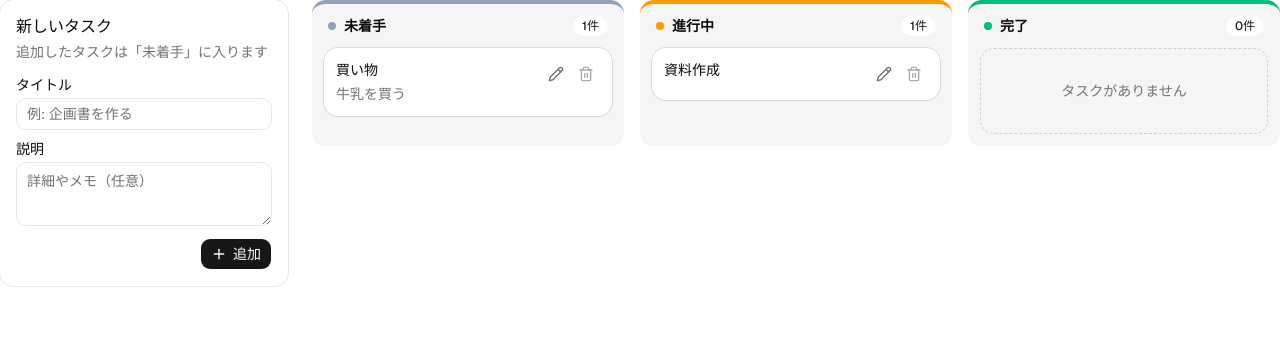
Test: 編集 › 完了にしたタスクを未着手に戻すと、元の列に表示される
The image size is (1280, 349).
Check: the heading "買い物" is shown, box x1=336 y1=61 x2=378 y2=79
Click the button named "「資料作成」を編集" at (884, 74), box x1=870 y1=60 x2=898 y2=88
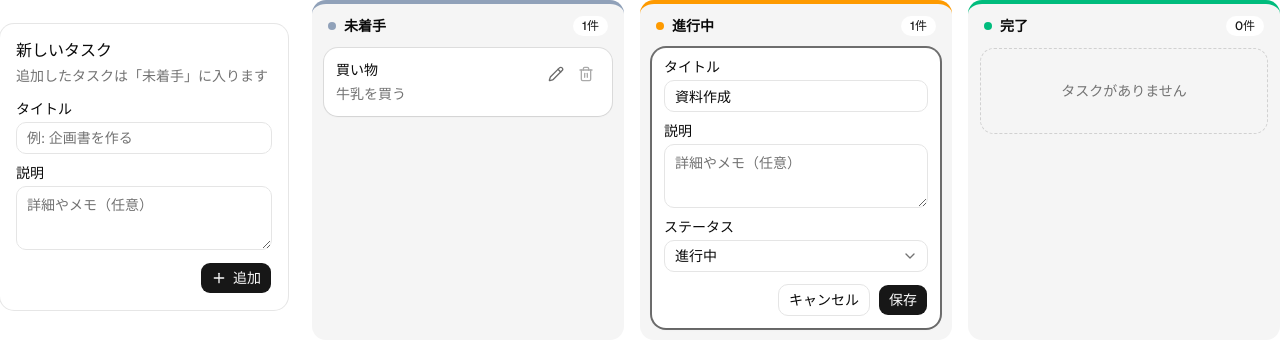
Select "完了" in the dropdown labelled "ステータス" at (796, 256), box x1=664 y1=240 x2=928 y2=272
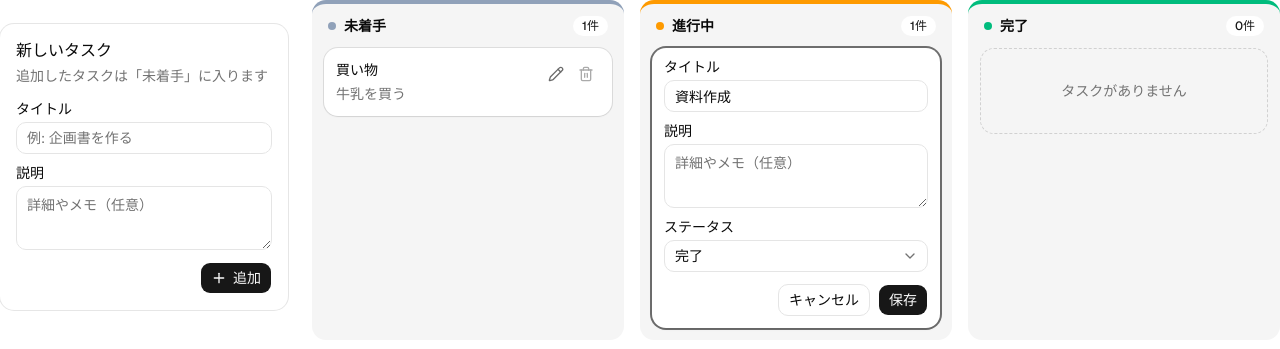
Click the button "保存" at (903, 300), box x1=878 y1=284 x2=928 y2=316
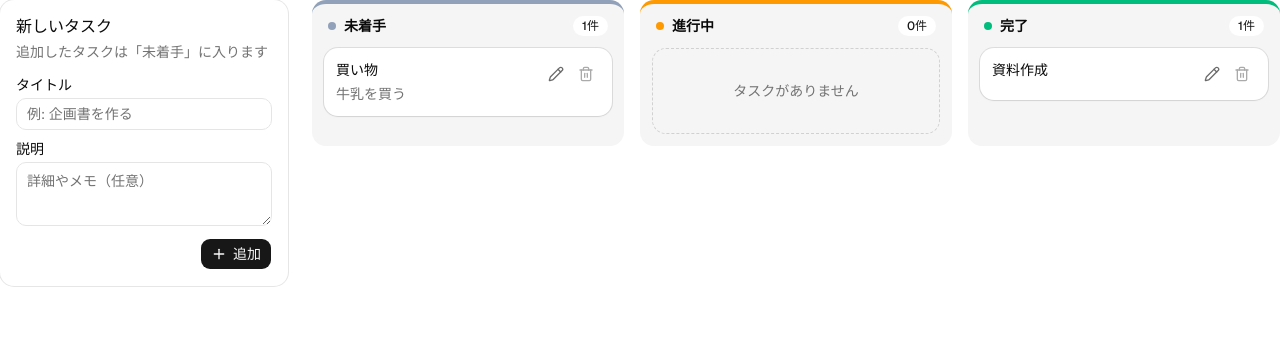
Check: the heading "資料作成" is shown, box x1=992 y1=61 x2=1048 y2=79
Click the button named "「資料作成」を編集" at (1212, 74), box x1=1198 y1=60 x2=1226 y2=88
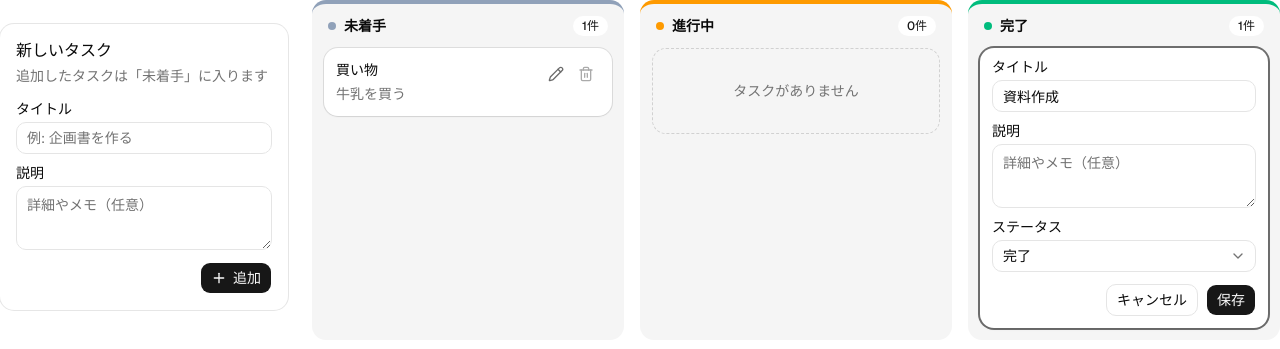
Select "未着手" in the dropdown labelled "ステータス" at (1124, 256), box x1=992 y1=240 x2=1256 y2=272
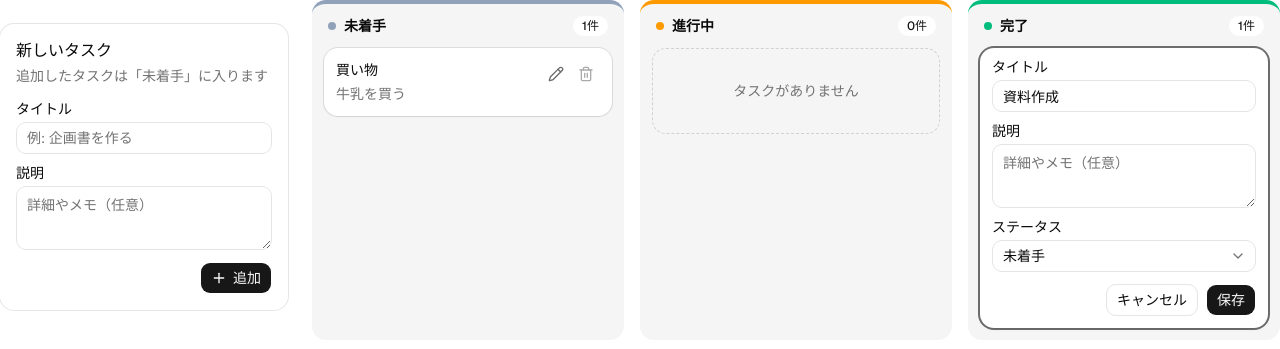
Click the button "保存" at (1231, 300), box x1=1206 y1=284 x2=1256 y2=316
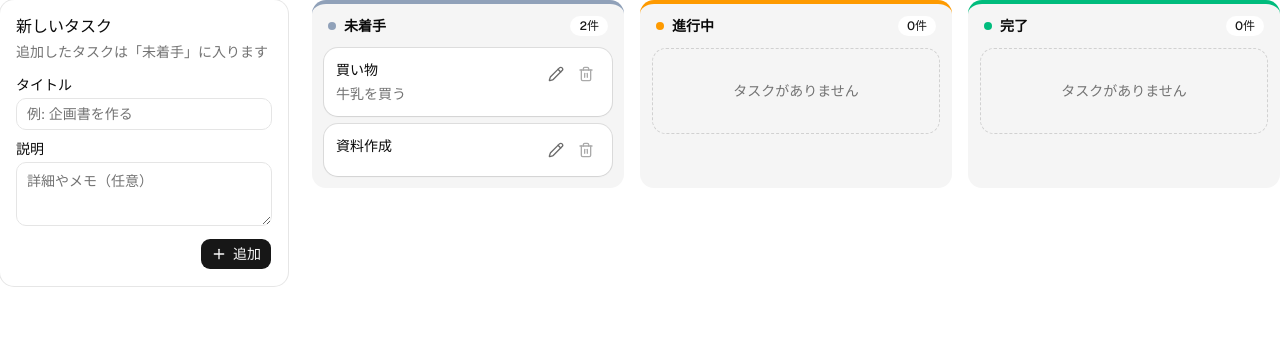
Check: the heading "資料作成" is shown, box x1=336 y1=137 x2=392 y2=155
